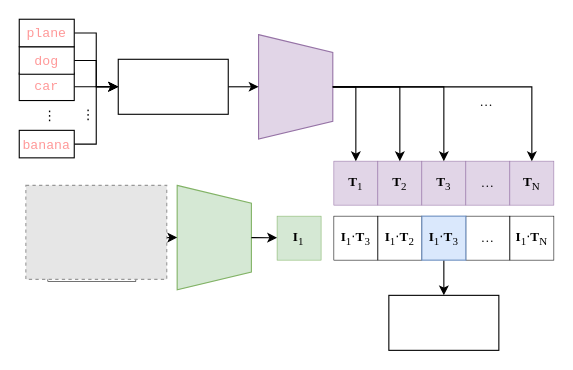
The diagram is 573 pixels wide and 370 high, and some of its shapes have lost their labels. Grey dashed boxes stand in for pictures. Here are the shapes that lost their labels. From the top down, the centre of each, then its label:
At (x=172, y=86): "A photo of a {object} .".
At (x=295, y=86): "Text Encoder".
At (x=213, y=237): "Image Encoder".
At (x=443, y=322): "A photo of a car .".
